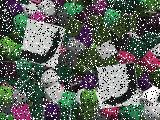Left: (19, 18, 65, 68)
Right: (97, 62, 140, 108)
